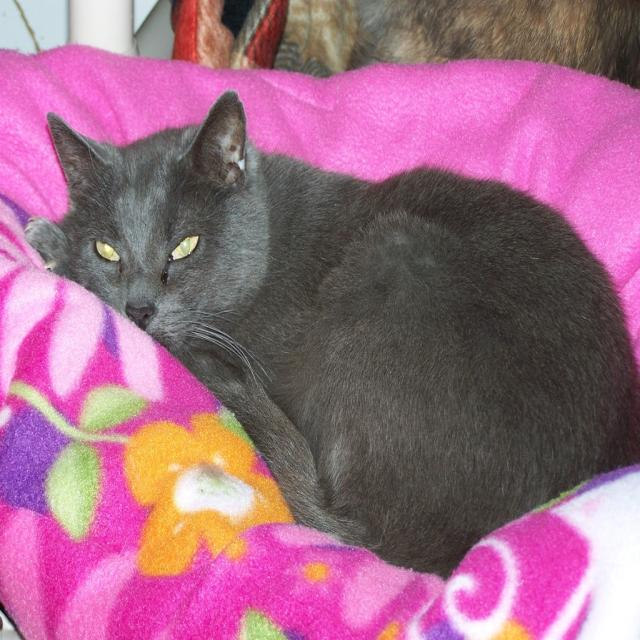Cat: (19, 90, 639, 584)
